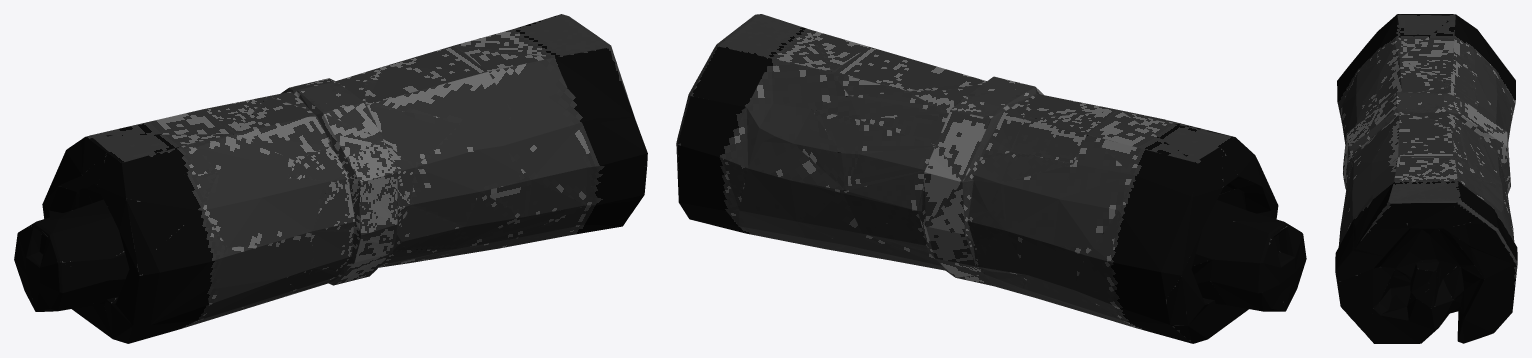
The picture shows the model from 3 angles, left to right: view 1: azimuth 30°, elevation 25°; view 2: azimuth 150°, elevation 25°; view 3: azimuth 270°, elevation 25°; orthographic projection. The views are drawn at different scales.
Parts seen in each view (by area): view 1: OBJ138; view 2: OBJ138; view 3: OBJ138.
Part boxes in pixels (left/top/right/bottom): OBJ138: left=14, top=14, right=647, bottom=343; OBJ138: left=676, top=14, right=1306, bottom=343; OBJ138: left=1335, top=14, right=1517, bottom=343.
Bounding box in the file's own units: 0.3312 × 0.0986 × 0.1141.
1 material, 1 textured.
